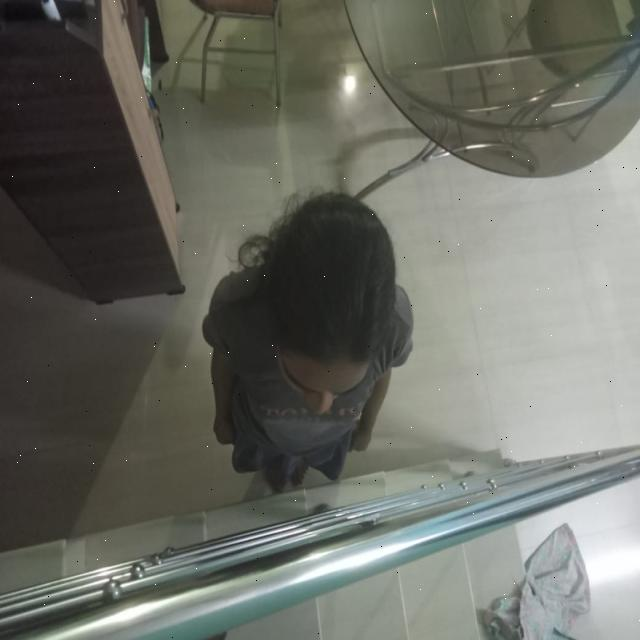humans: (191, 172, 425, 496)
